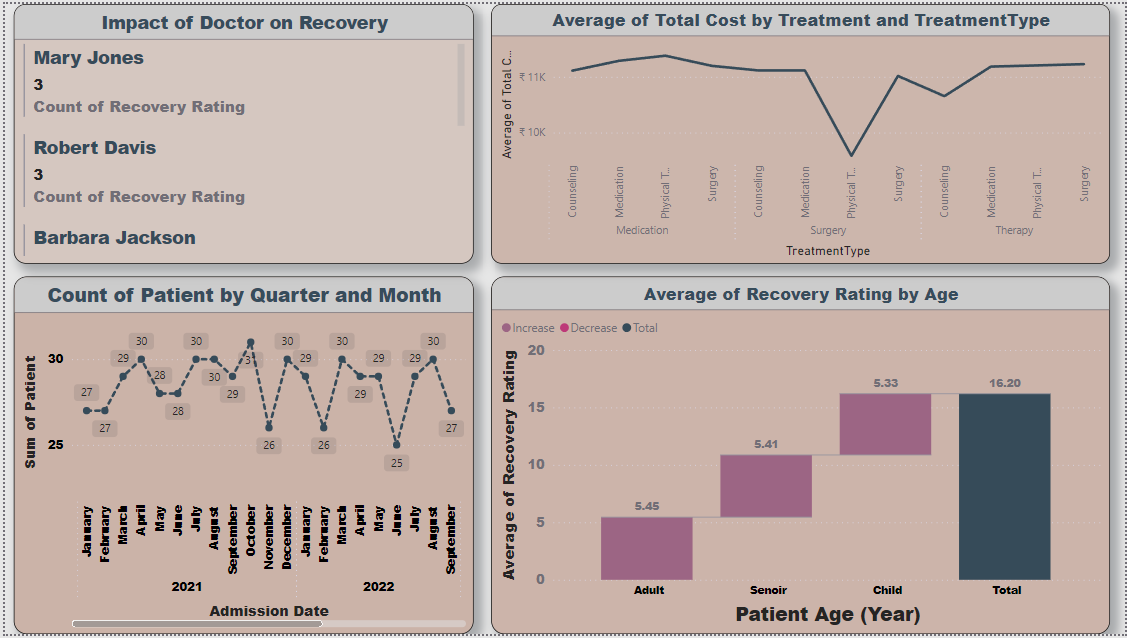

This screenshot's page, from the dashboard's own definition file:
{"tool":"powerbi","page":{"name":"Remaining_Graph","canvas":[1280,720],"ordinal":2},"visuals":[{"type":"lineChart","title":"Count of Patient by Quarter and Month","fields":{"Category":["Patient_Medical_Records.AdmissionDate.Variation.Date Hierarchy.Year","Patient_Medical_Records.AdmissionDate.Variation.Date Hierarchy.Month"],"Y":["Patient_Medical_Records.PatientID"]},"box":[10.1,311,525.6,409],"z":0},{"type":"waterfallChart","title":"Average of Recovery Rating by Age","fields":{"Category":["Patient_Medical_Records.AgeGroup"],"Y":["Patient_Medical_Records.Recovery Rating"]},"box":[555.8,311,707,409],"z":1000},{"type":"multiRowCard","title":"Impact of Doctor on Recovery","fields":{"Values":["Patient_Medical_Records.DoctorName","Patient_Medical_Records.RecoveryRating"]},"box":[10.1,0,525.6,296.6],"z":2000},{"type":"lineChart","fields":{"Y":["Patient_Medical_Records.Total Cost"],"Category":["Patient_Medical_Records.Treatment","Patient_Medical_Records.TreatmentType"]},"box":[555.8,0,707,296.6],"z":3000}]}

Visuals, with their boxes in screenshot pixels (x1, y1, x2, y2), scaled from the page's 1280x720 canvas onto the 1127x638 screenshot:
"Count of Patient by Quarter and Month" lineChart: bbox=[9, 276, 472, 637]
"Average of Recovery Rating by Age" waterfallChart: bbox=[489, 276, 1112, 637]
"Impact of Doctor on Recovery" multiRowCard: bbox=[9, 0, 472, 263]
lineChart - Patient_Medical_Records.Total Cost x Patient_Medical_Records.Treatment: bbox=[489, 0, 1112, 263]
